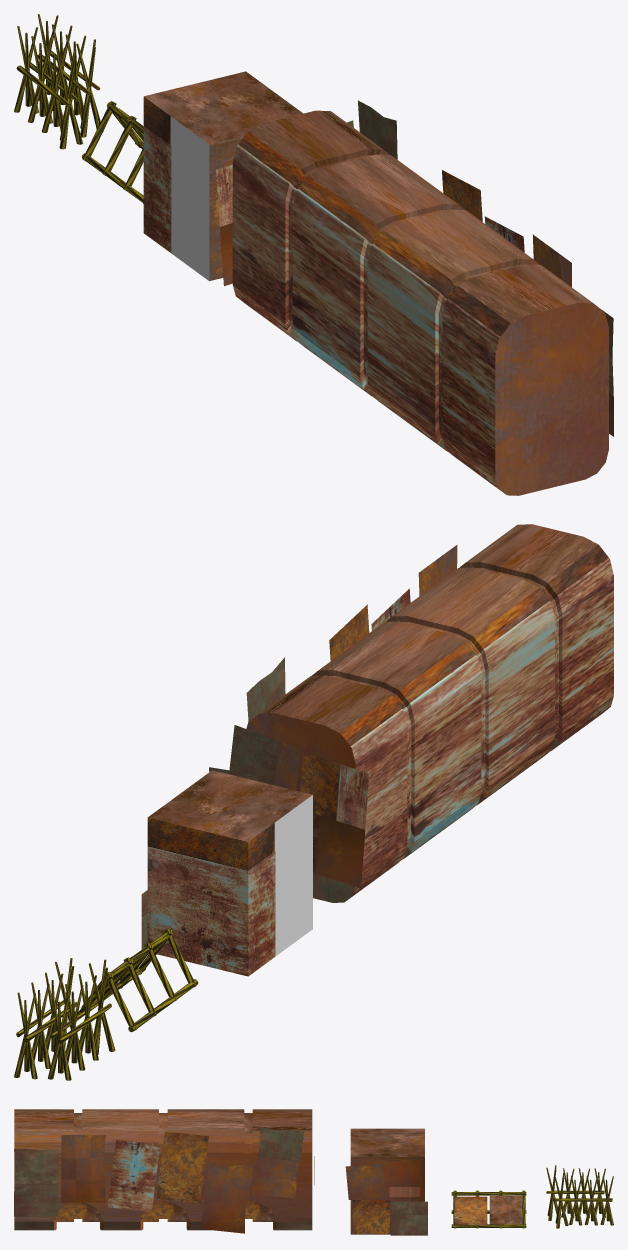
Rendered from Barrigade.fbx.
3 views of the same model, one above another, from view 1: azimuth 30°, elevation 25°; view 2: azimuth 150°, elevation 25°; view 3: azimuth 270°, elevation 25° (orthographic). The views are drawn at different scales.
Visible parts, largest first — view 1: Bus, Spot, Barrigade2, Barrigade; view 2: Bus, Spot, Barrigade2, Barrigade; view 3: Bus, Spot, Barrigade, Barrigade2.
Part boxes in pixels (x1=…): Bus: x1=216, y1=100, x2=613, y2=495; Spot: x1=143, y1=71, x2=302, y2=281; Barrigade2: x1=14, y1=14, x2=103, y2=149; Barrigade: x1=82, y1=101, x2=143, y2=203; Bus: x1=229, y1=524, x2=613, y2=902; Spot: x1=141, y1=767, x2=312, y2=976; Barrigade2: x1=14, y1=958, x2=115, y2=1080; Barrigade: x1=78, y1=928, x2=198, y2=1032; Bus: x1=14, y1=1109, x2=314, y2=1233; Spot: x1=345, y1=1128, x2=427, y2=1235; Barrigade: x1=451, y1=1190, x2=526, y2=1228; Barrigade2: x1=546, y1=1165, x2=613, y2=1228.
Bounding box in the file's own units: 528 × 654 × 3220.
